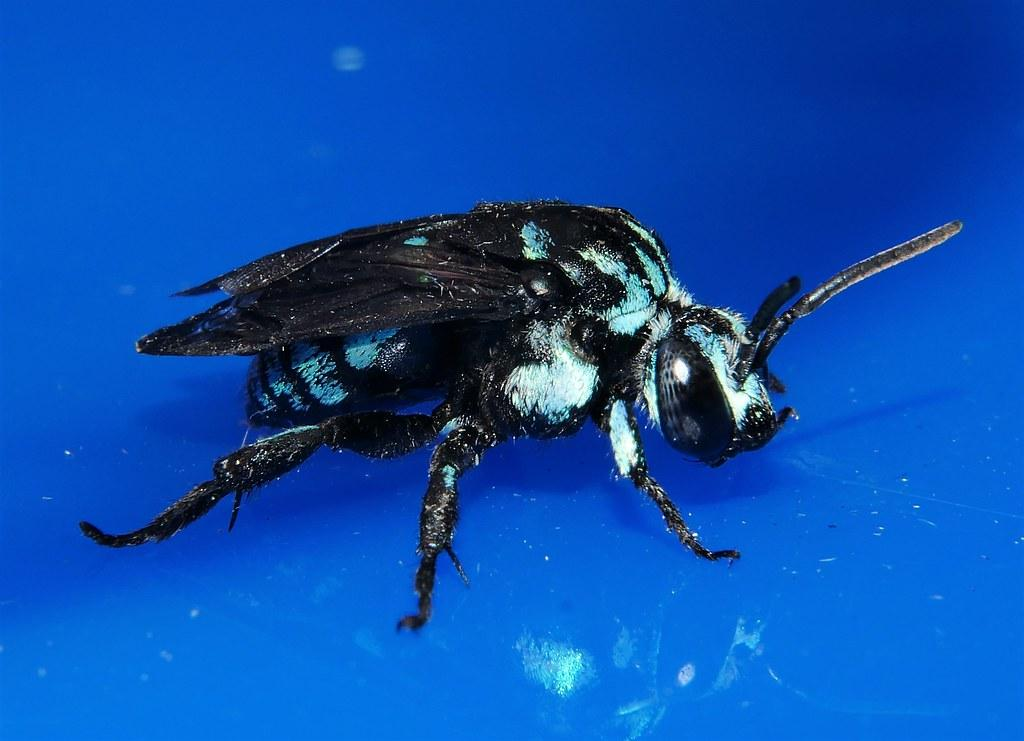Thyreus: (66, 186, 976, 613)
